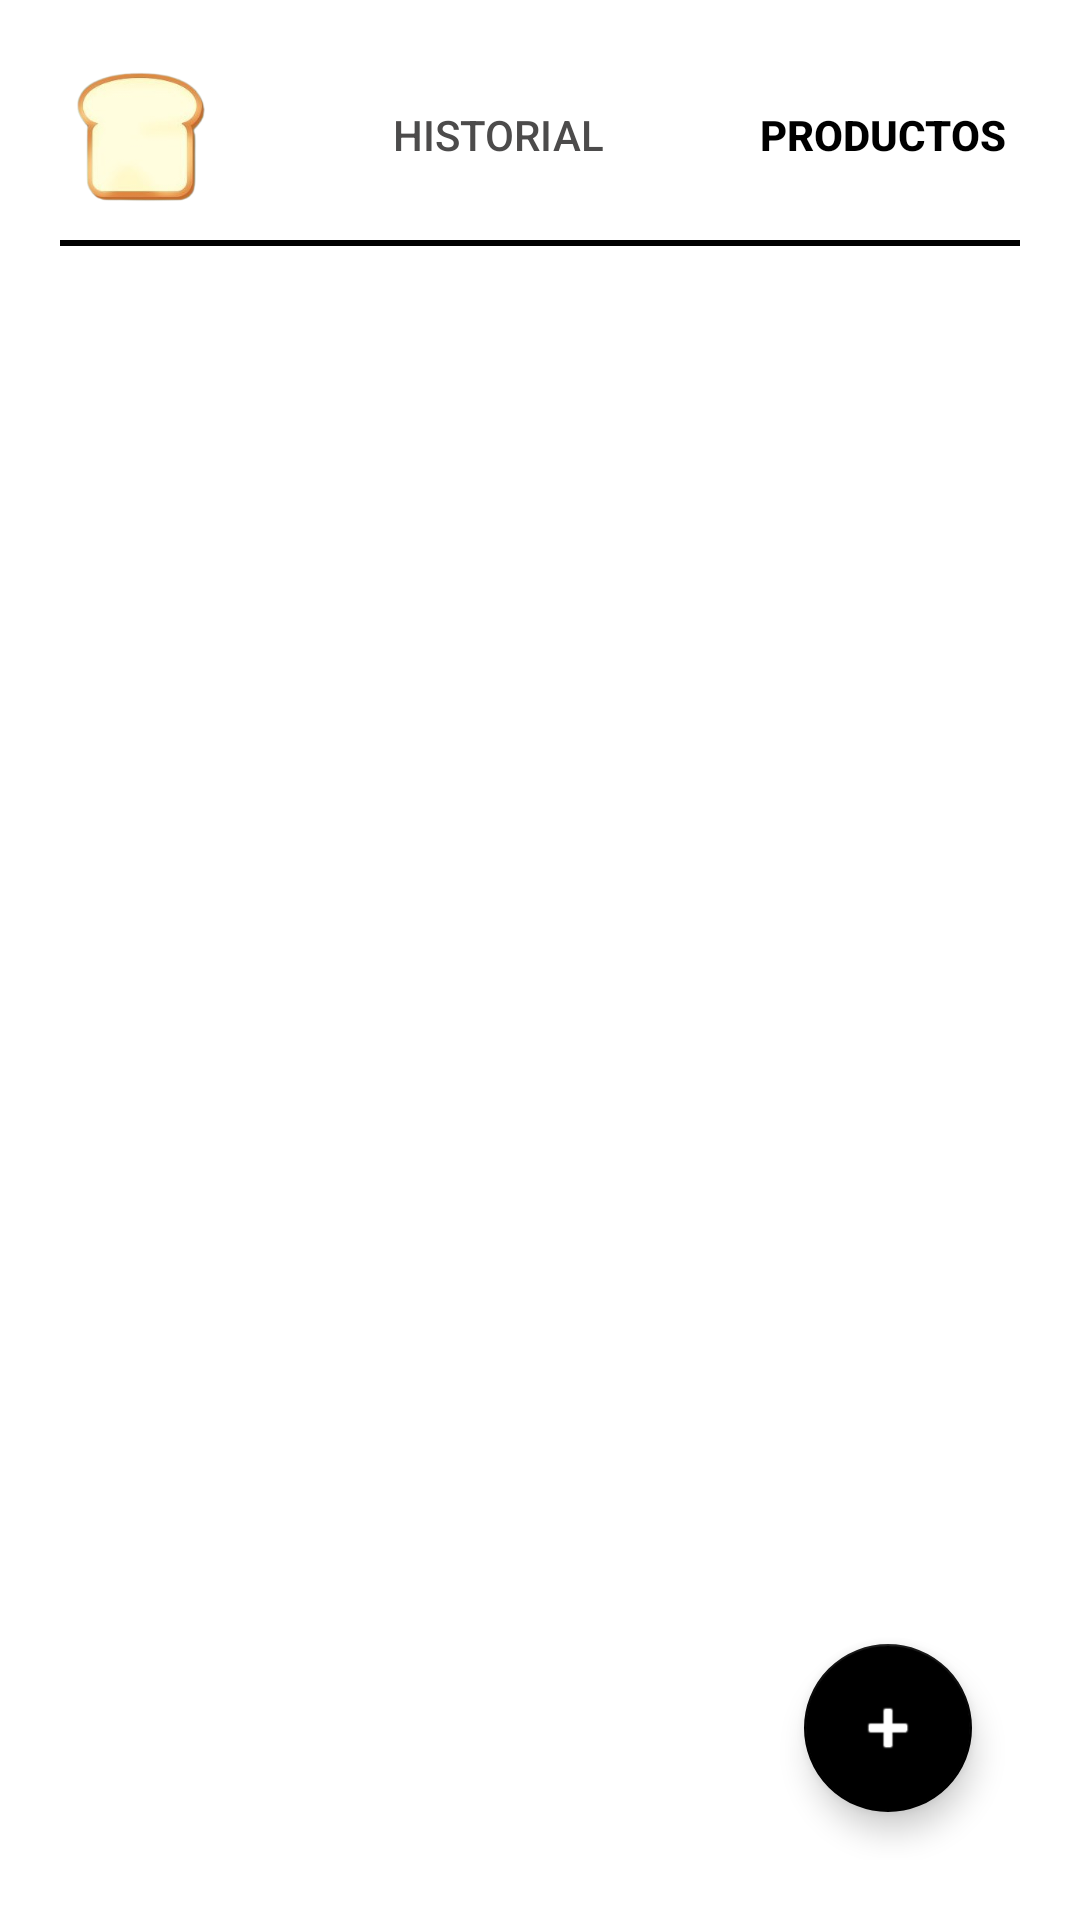

Where icons sit on this 1080x1920 app screen, as (x1, y1, x2, y2):
Agregar nuevo pedido: (804, 1644, 972, 1812)
